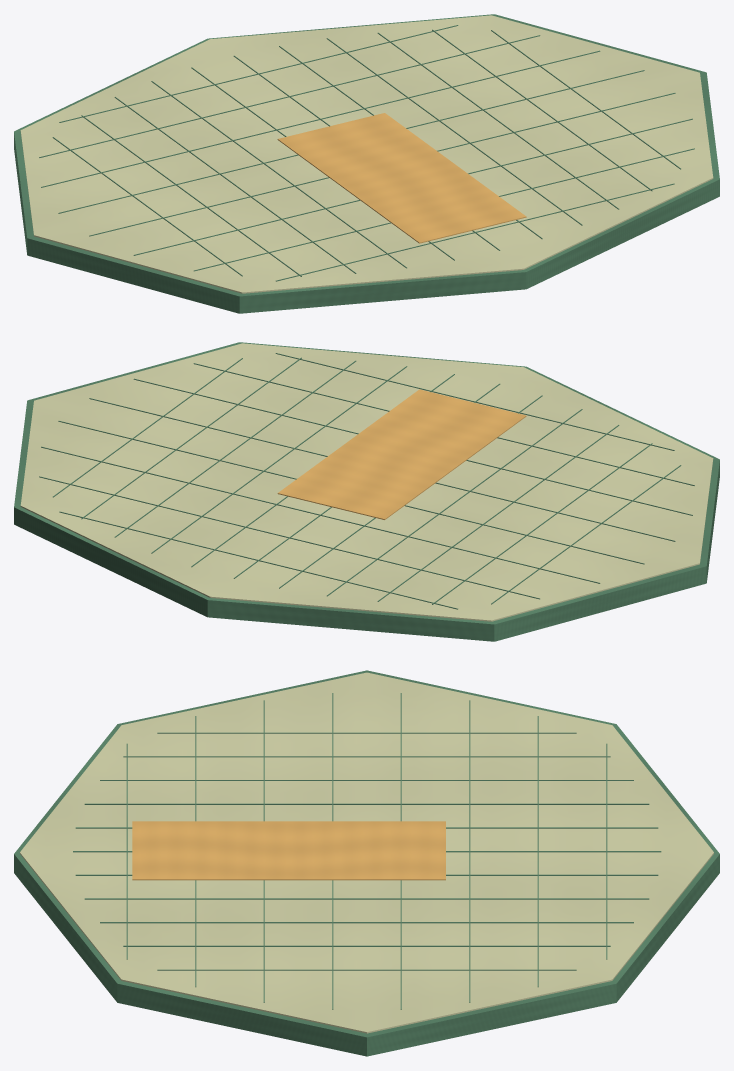
File: atlas100-s002-a07.glb
3 renders of one model, top to bottom at view 1: azimuth 30°, elevation 25°; view 2: azimuth 150°, elevation 25°; view 3: azimuth 270°, elevation 25°, orthographic. The views are drawn at different scales.
Visible parts, largest first — view 1: atlas100-s002-a07:part-001, atlas100-s002-a07:part-000, atlas100-s002-a07:part-021, atlas100-s002-a07:part-015, atlas100-s002-a07:part-014, atlas100-s002-a07:part-016, atlas100-s002-a07:part-017, atlas100-s002-a07:part-018, atlas100-s002-a07:part-013, atlas100-s002-a07:part-020, atlas100-s002-a07:part-019, atlas100-s002-a07:part-009 (+3 smaller); view 2: atlas100-s002-a07:part-001, atlas100-s002-a07:part-000, atlas100-s002-a07:part-021, atlas100-s002-a07:part-015, atlas100-s002-a07:part-014, atlas100-s002-a07:part-017, atlas100-s002-a07:part-016, atlas100-s002-a07:part-018, atlas100-s002-a07:part-013, atlas100-s002-a07:part-020, atlas100-s002-a07:part-019, atlas100-s002-a07:part-009 (+3 smaller); view 3: atlas100-s002-a07:part-001, atlas100-s002-a07:part-000, atlas100-s002-a07:part-021, atlas100-s002-a07:part-009, atlas100-s002-a07:part-005, atlas100-s002-a07:part-010, atlas100-s002-a07:part-011, atlas100-s002-a07:part-003, atlas100-s002-a07:part-002, atlas100-s002-a07:part-012.
Part boxes in pixels (x1=…): atlas100-s002-a07:part-001: x1=20, y1=15, x2=713, y2=293; atlas100-s002-a07:part-000: x1=14, y1=14, x2=719, y2=313; atlas100-s002-a07:part-021: x1=277, y1=113, x2=526, y2=243; atlas100-s002-a07:part-015: x1=41, y1=50, x2=600, y2=187; atlas100-s002-a07:part-014: x1=39, y1=35, x2=540, y2=157; atlas100-s002-a07:part-016: x1=58, y1=70, x2=644, y2=213; atlas100-s002-a07:part-017: x1=89, y1=93, x2=675, y2=236; atlas100-s002-a07:part-018: x1=133, y1=118, x2=692, y2=255; atlas100-s002-a07:part-013: x1=59, y1=25, x2=458, y2=122; atlas100-s002-a07:part-020: x1=276, y1=183, x2=674, y2=281; atlas100-s002-a07:part-019: x1=194, y1=148, x2=694, y2=271; atlas100-s002-a07:part-009: x1=326, y1=38, x2=582, y2=225; atlas100-s002-a07:part-001: x1=20, y1=343, x2=713, y2=621; atlas100-s002-a07:part-000: x1=14, y1=342, x2=719, y2=641; atlas100-s002-a07:part-021: x1=277, y1=389, x2=526, y2=519; atlas100-s002-a07:part-015: x1=41, y1=446, x2=600, y2=583; atlas100-s002-a07:part-014: x1=39, y1=476, x2=539, y2=599; atlas100-s002-a07:part-017: x1=89, y1=398, x2=675, y2=541; atlas100-s002-a07:part-016: x1=58, y1=421, x2=644, y2=564; atlas100-s002-a07:part-018: x1=133, y1=378, x2=692, y2=515; atlas100-s002-a07:part-013: x1=59, y1=511, x2=457, y2=609; atlas100-s002-a07:part-020: x1=275, y1=353, x2=674, y2=450; atlas100-s002-a07:part-019: x1=193, y1=363, x2=694, y2=485; atlas100-s002-a07:part-009: x1=151, y1=366, x2=407, y2=553; atlas100-s002-a07:part-001: x1=20, y1=672, x2=713, y2=1033; atlas100-s002-a07:part-000: x1=14, y1=670, x2=719, y2=1056; atlas100-s002-a07:part-021: x1=132, y1=821, x2=445, y2=880; atlas100-s002-a07:part-009: x1=84, y1=898, x2=649, y2=899; atlas100-s002-a07:part-005: x1=84, y1=803, x2=649, y2=804; atlas100-s002-a07:part-010: x1=100, y1=922, x2=633, y2=923; atlas100-s002-a07:part-011: x1=123, y1=945, x2=610, y2=946; atlas100-s002-a07:part-003: x1=123, y1=756, x2=610, y2=757; atlas100-s002-a07:part-002: x1=157, y1=732, x2=576, y2=733; atlas100-s002-a07:part-012: x1=157, y1=969, x2=576, y2=970.
Bounding box in the file's own units: 13.95 × 0.404 × 11.34.
3 materials, 3 textured.
